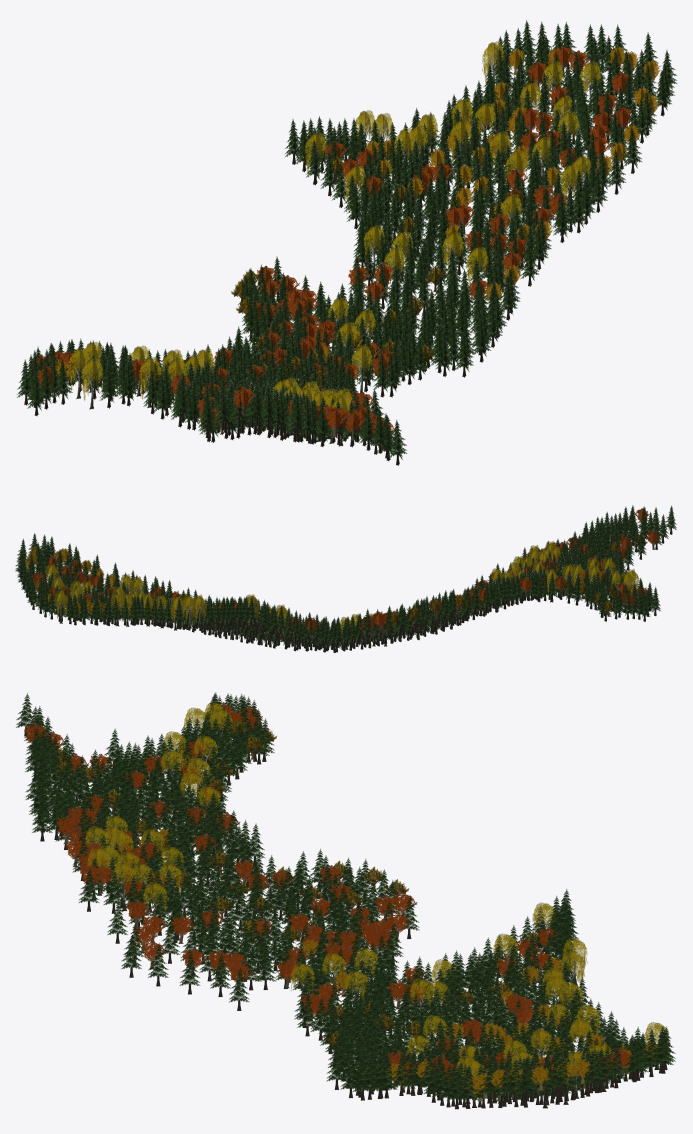
The model's file is lowpoly_trees_2.glb.
3 views of the same model, one above another, from view 1: azimuth 30°, elevation 25°; view 2: azimuth 150°, elevation 25°; view 3: azimuth 270°, elevation 25° (orthographic). The views are drawn at different scales.
Parts seen in each view (by area): view 1: fir_tree.png__, birch_tree.png__, tree_c.png__, tree_d.png__, tree_b.png__; view 2: fir_tree.png__, birch_tree.png__, tree_c.png__, tree_b.png__, tree_d.png__; view 3: fir_tree.png__, tree_c.png__, birch_tree.png__, tree_b.png__, tree_d.png__.
Part boxes in pixels (bbox=[...]): fir_tree.png__: bbox=[17, 20, 677, 465]; birch_tree.png__: bbox=[68, 41, 601, 446]; tree_c.png__: bbox=[32, 45, 633, 451]; tree_d.png__: bbox=[55, 46, 661, 388]; tree_b.png__: bbox=[55, 156, 447, 434]; fir_tree.png__: bbox=[15, 505, 676, 652]; birch_tree.png__: bbox=[45, 541, 639, 649]; tree_c.png__: bbox=[32, 507, 658, 645]; tree_b.png__: bbox=[245, 532, 647, 645]; tree_d.png__: bbox=[25, 545, 638, 641]; fir_tree.png__: bbox=[16, 692, 675, 1109]; tree_c.png__: bbox=[24, 702, 632, 1101]; birch_tree.png__: bbox=[85, 702, 668, 1108]; tree_b.png__: bbox=[48, 710, 539, 1047]; tree_d.png__: bbox=[158, 709, 658, 1101].
Bounding box in the file's own units: 384 × 95.18 × 281.
5 materials, 5 textured.
